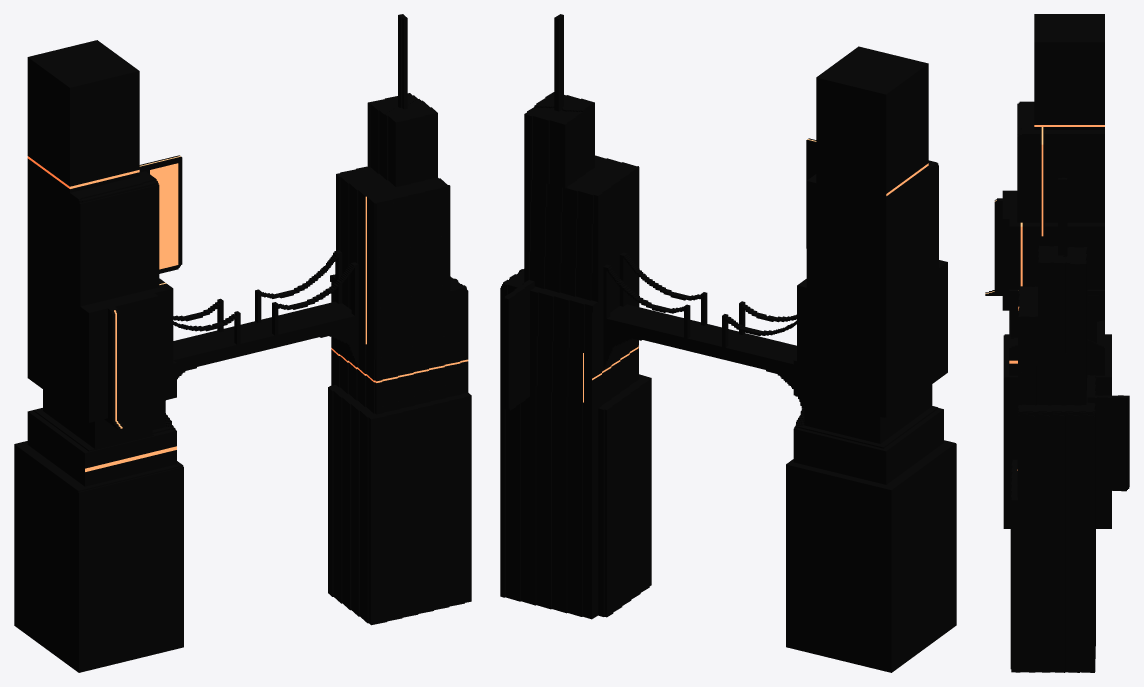
File: towers.glb
The picture shows the model from 3 angles, left to right: view 1: azimuth 30°, elevation 25°; view 2: azimuth 150°, elevation 25°; view 3: azimuth 270°, elevation 25°; orthographic projection. The views are drawn at different scales.
Visible parts, largest first — view 1: towers; view 2: towers; view 3: towers.
Part boxes in pixels (x1,y1,x2,y2): towers: (14,14,471,672); towers: (500,14,956,672); towers: (985,14,1129,672).
Bounding box in the file's own units: 2.64 × 3.79 × 0.9884.
